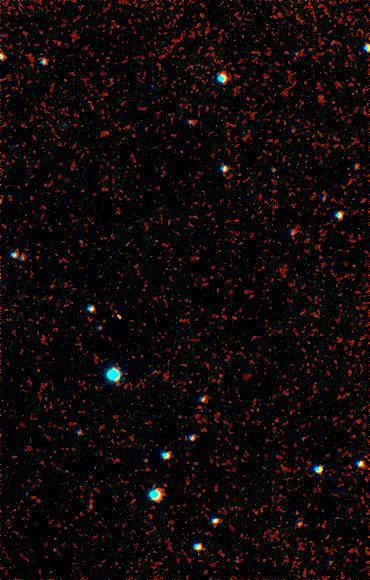star: (104, 298, 134, 328)
